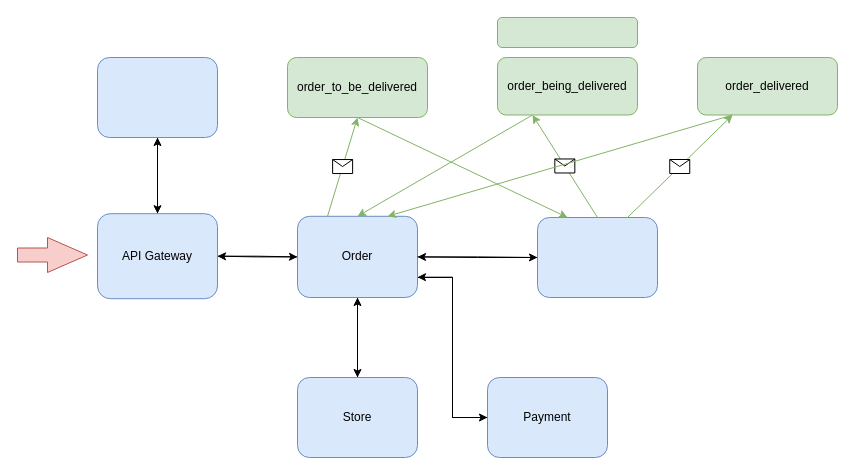
Some shapes in this 855 by 475 pixel diagram are drawn without their labels. The box of each missing label's shape, as (x1, y1, x2, y2) in pixels:
Delivery: (536, 216, 658, 298)
Kafka: (496, 16, 638, 48)
User: (96, 56, 218, 138)
